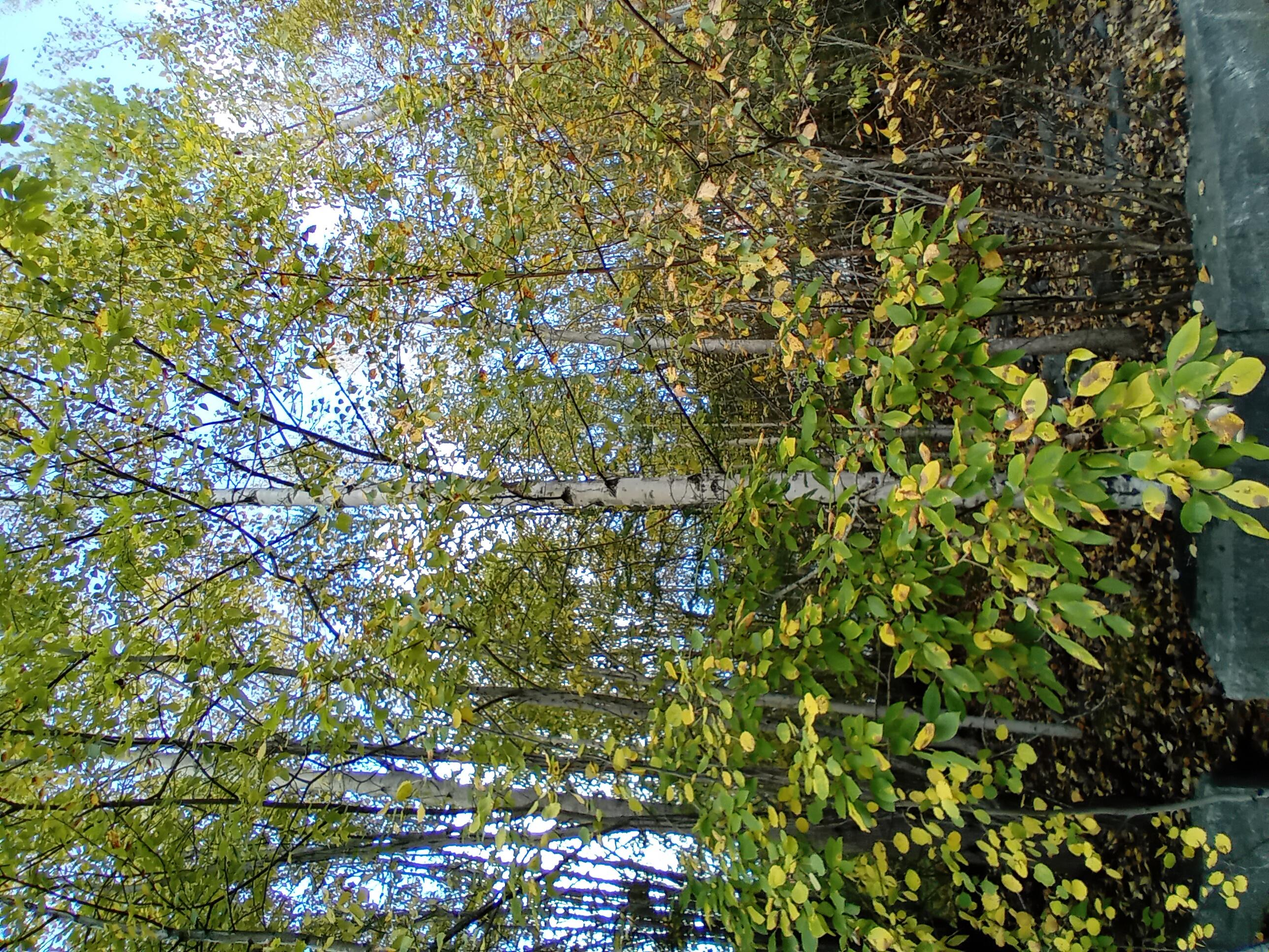Birch: (3, 1, 1259, 949), (336, 0, 862, 686)
